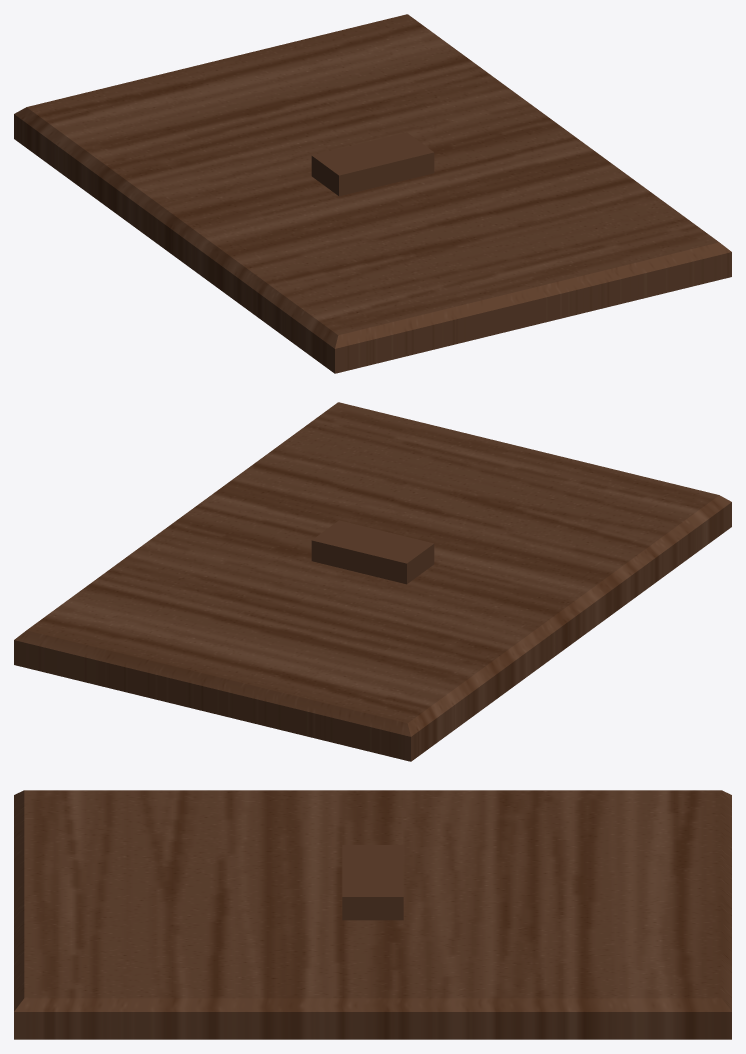
Rendered from lid_2_3.glb.
3 renders of one model, top to bottom at view 1: azimuth 30°, elevation 25°; view 2: azimuth 150°, elevation 25°; view 3: azimuth 270°, elevation 25°, orthographic. The views are drawn at different scales.
Parts seen in each view (by area): view 1: lid_2_3; view 2: lid_2_3; view 3: lid_2_3.
Boxes of the visible parts, <box> form: lid_2_3: <box>14,14,731,373</box>; lid_2_3: <box>14,402,731,761</box>; lid_2_3: <box>14,790,731,1039</box>.
Bounding box in the file's own units: 0.1 × 0.013 × 0.14.
Materials: 1 (1 with a texture image).
